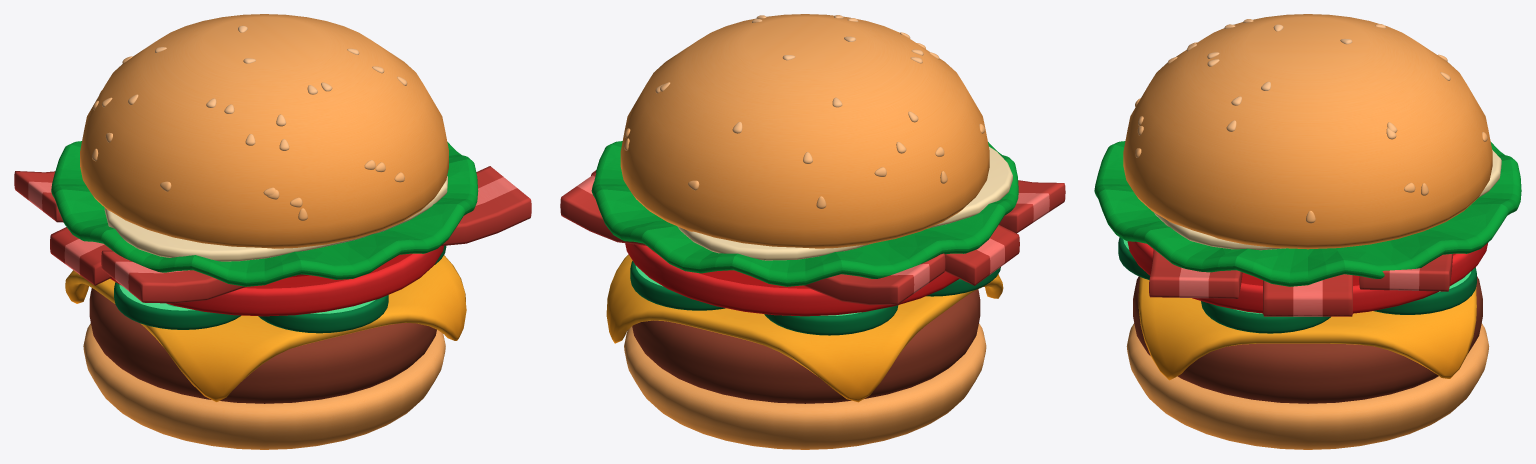
Rendered from CheeseBurger.fbx.
3 views of the same model, side by side, from view 1: azimuth 30°, elevation 25°; view 2: azimuth 150°, elevation 25°; view 3: azimuth 270°, elevation 25° (orthographic).
Visible parts, largest first — view 1: top_bun_1, Bottom_bun, beef, Lettuce, Cheese, Bacon, tomato, cucumber, Egg, Seed; view 2: top_bun_1, Bottom_bun, beef, Lettuce, Cheese, Bacon, tomato, cucumber, Egg, Seed; view 3: top_bun_1, Lettuce, Bottom_bun, Cheese, beef, Bacon, cucumber, tomato, Seed, Egg.
Part boxes in pixels (box(x1,y1,x2,y2)): top_bun_1: box(80, 14, 448, 248); Bottom_bun: box(83, 323, 445, 449); beef: box(89, 288, 436, 403); Lettuce: box(51, 141, 478, 286); Cheese: box(65, 255, 466, 401); Bacon: box(14, 166, 531, 303); tomato: box(110, 246, 443, 316); cucumber: box(114, 245, 446, 333); Egg: box(104, 176, 447, 261); Seed: box(92, 25, 407, 220); top_bun_1: box(620, 14, 989, 248); Bottom_bun: box(624, 323, 986, 449); beef: box(632, 289, 980, 403); Lettuce: box(591, 141, 1018, 286); Cheese: box(606, 254, 1003, 402); Bacon: box(560, 170, 1065, 305); tomato: box(625, 243, 959, 316); cucumber: box(630, 261, 1000, 335); Egg: box(677, 146, 1012, 260); Seed: box(624, 15, 984, 208); top_bun_1: box(1123, 14, 1492, 249); Lettuce: box(1094, 141, 1521, 286); Bottom_bun: box(1126, 323, 1489, 449); Cheese: box(1138, 267, 1476, 380); beef: box(1133, 276, 1482, 403); Bacon: box(1149, 249, 1452, 316); cucumber: box(1118, 237, 1476, 333); tomato: box(1127, 241, 1487, 313); Seed: box(1135, 19, 1487, 223); Egg: box(1154, 149, 1501, 250).
Size of the model in its own units: 118 by 101 by 113.
Materials: 1 (1 with a texture image).
